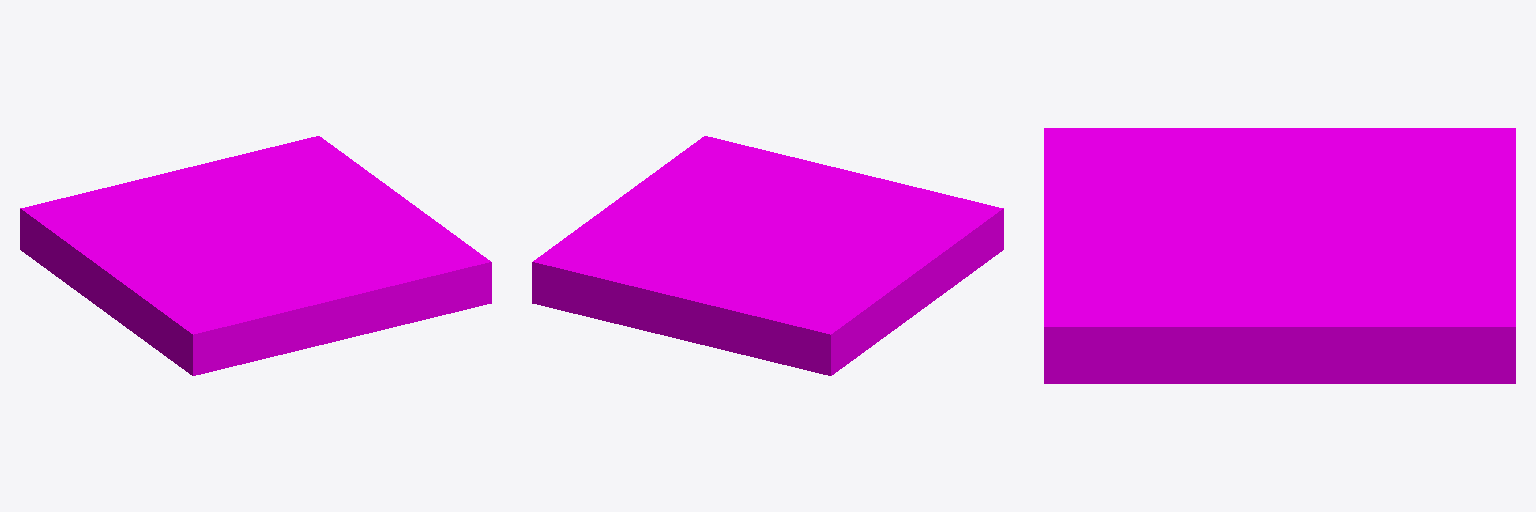
URDF robot description (base_box):
<robot name="base_box">
    <link name="base1">
        <inertial>
            <mass value="0.1"/>
            <inertia ixx="0.5" ixy="0.5" ixz="0.5" iyy="0.5" iyz="0.5" izz="0.5"/>
        </inertial>
        <visual>
            <origin xyz="0.2 0.2 0" rpy="0 0 0"/>
            <geometry>
                <box size="0.15 0.15 0.02"/>
            </geometry>
            <material name="Pink">
                <color rgba="1.0 0.0 1.0 1.0"/>
            </material>
        </visual>
        <collision>
            <origin xyz="0.2 0.2 0" rpy="0 0 0"/>
            <geometry>
                <box size="0.15 0.15 0.02"/>
            </geometry>
        </collision> 
    </link>

</robot>

--- Render facts (derived) ---
Views: 3 orthographic renders of the robot side by side, from view 1: azimuth 30°, elevation 25°; view 2: azimuth 150°, elevation 25°; view 3: azimuth 270°, elevation 25°.
Robot: base_box — 1 links, 0 joints (none); root link base1; default pose: all joints at 0.
Visible links, largest first — view 1: base1; view 2: base1; view 3: base1.
Boxes of the visible links, x1,y1,x2,y2 form: base1: [20, 136, 491, 375]; base1: [532, 136, 1003, 375]; base1: [1044, 128, 1515, 383].
Bounding box of the posed robot: 0.15 × 0.15 × 0.02 m (x, y, z).
Geometry: primitives only (box / cylinder / sphere), no mesh files.